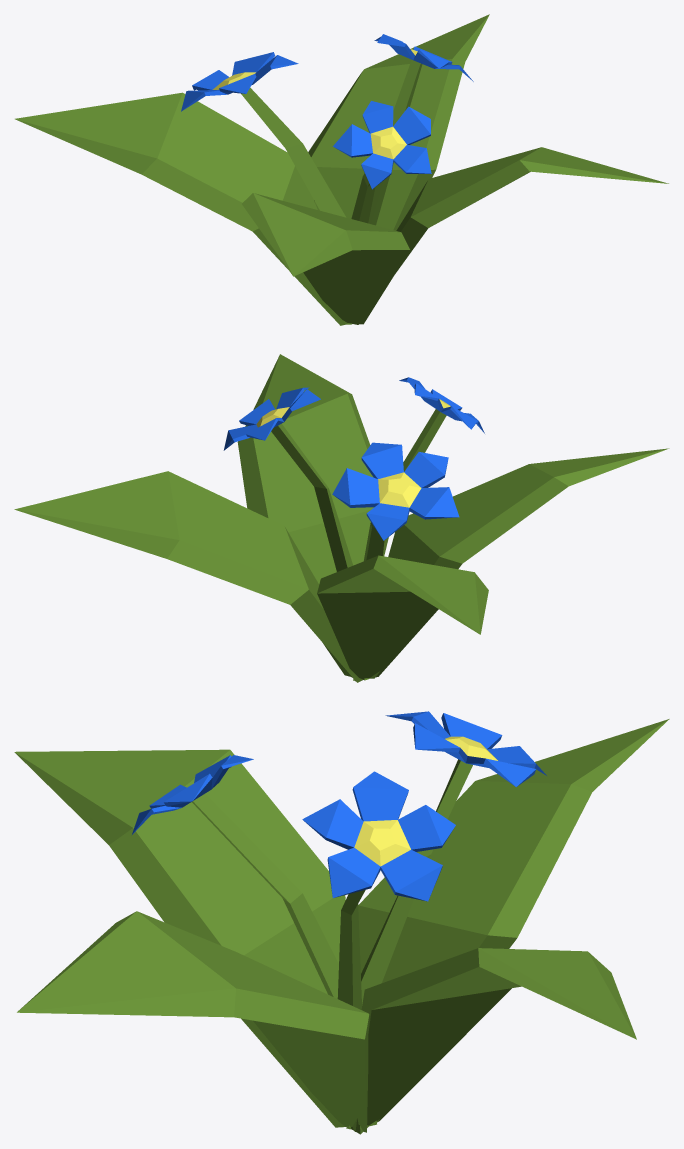
The model's file is flower2.obj.
3 renders of one model, top to bottom at view 1: azimuth 30°, elevation 25°; view 2: azimuth 150°, elevation 25°; view 3: azimuth 270°, elevation 25°, orthographic. The views are drawn at different scales.
Parts seen in each view (by area): view 1: Flower_bush_blue_Plane.030; view 2: Flower_bush_blue_Plane.030; view 3: Flower_bush_blue_Plane.030.
Boxes of the visible parts, x1,y1,x2,y2 form: Flower_bush_blue_Plane.030: [15, 14, 668, 325]; Flower_bush_blue_Plane.030: [14, 354, 669, 682]; Flower_bush_blue_Plane.030: [14, 711, 669, 1134].
Bounding box in the file's own units: 1.15 × 0.6264 × 0.9926.
1 material, 1 textured.
